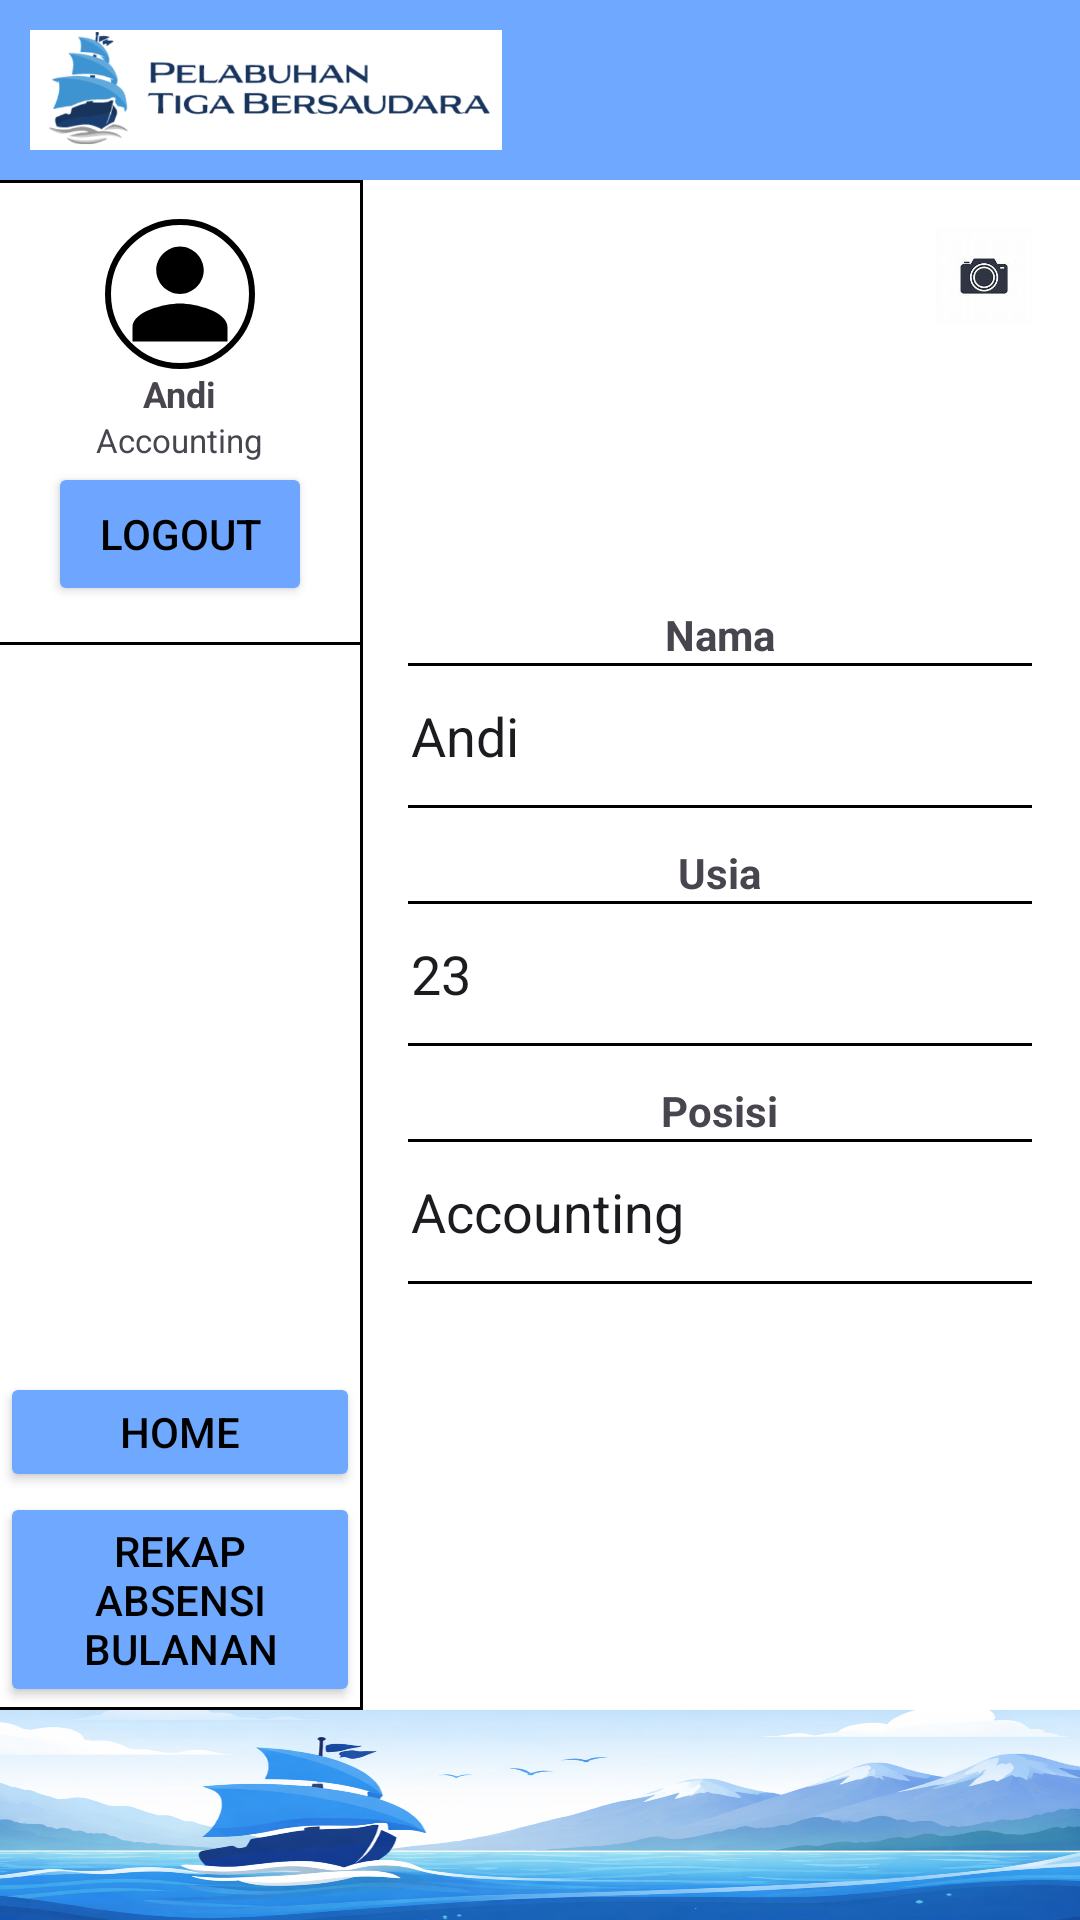

Icon bounding boxes for this 1080x1920 phone screenshot, format (x1, y1, x2, y2):
camera: (960, 258, 1008, 294)
profile: (105, 219, 255, 369)
